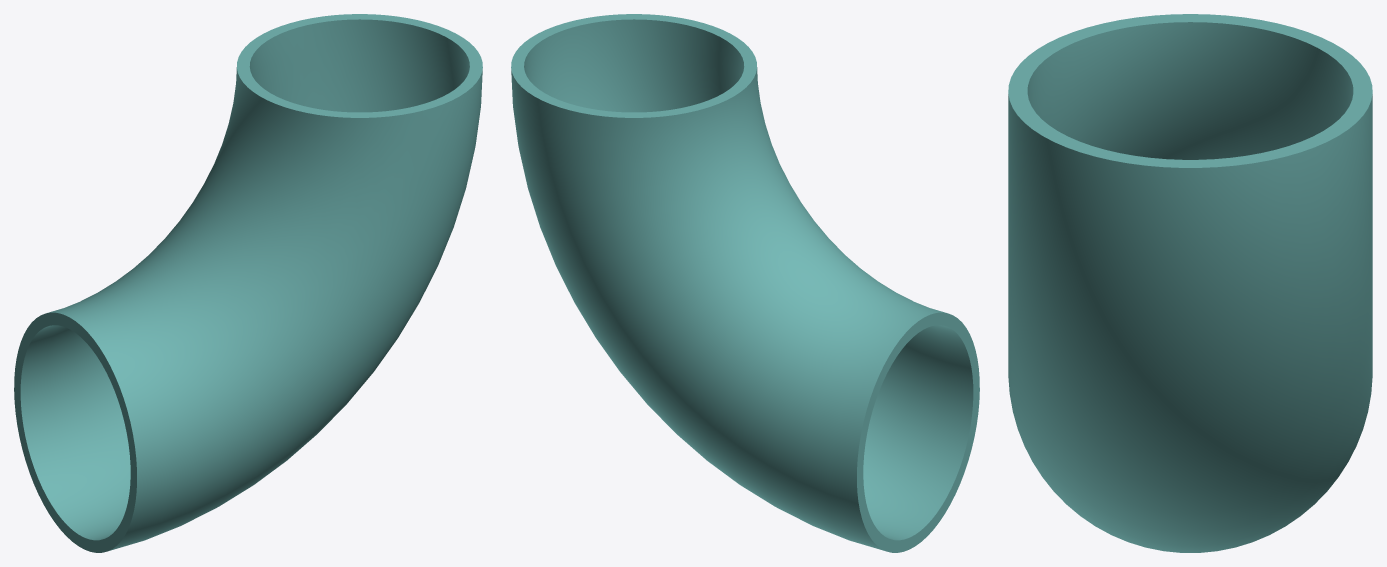
File: step_14.glb
3 renders of one model, left to right at view 1: azimuth 30°, elevation 25°; view 2: azimuth 150°, elevation 25°; view 3: azimuth 270°, elevation 25°, orthographic. The views are drawn at different scales.
Parts seen in each view (by area): view 1: part__4" elbow 1; view 2: part__4" elbow 1; view 3: part__4" elbow 1.
Part boxes in pixels (x1,y1,x2,y2): part__4" elbow 1: (14, 14, 482, 552); part__4" elbow 1: (511, 14, 979, 552); part__4" elbow 1: (1008, 14, 1372, 552).
Size of the model in its own units: 209 by 209 by 114.
